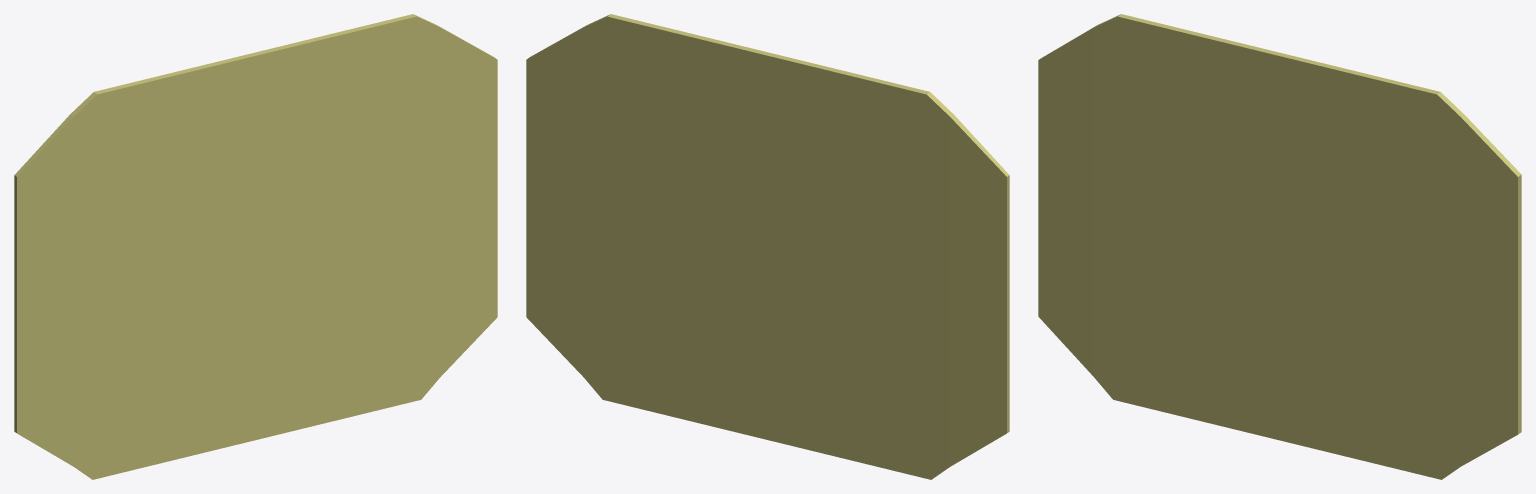
Rendered from grease.obj.
3 renders of one model, left to right at view 1: azimuth 30°, elevation 25°; view 2: azimuth 150°, elevation 25°; view 3: azimuth 330°, elevation 25°, orthographic.
Visible parts, largest first — view 1: Cube; view 2: Cube; view 3: Cube.
Part boxes in pixels (x1=…): Cube: x1=14, y1=14, x2=497, y2=479; Cube: x1=526, y1=14, x2=1009, y2=479; Cube: x1=1038, y1=14, x2=1521, y2=479.
Bounding box in the file's own units: 0.4065 × 0.3109 × 0.00524.
